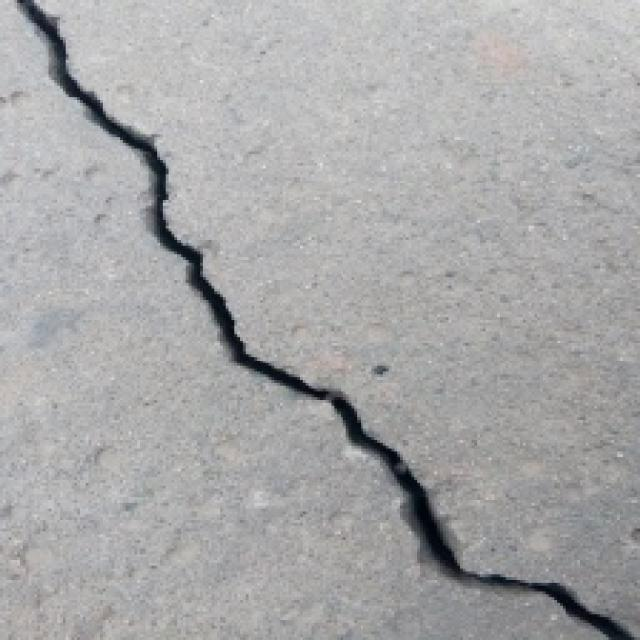crack: (4, 8, 636, 624)
